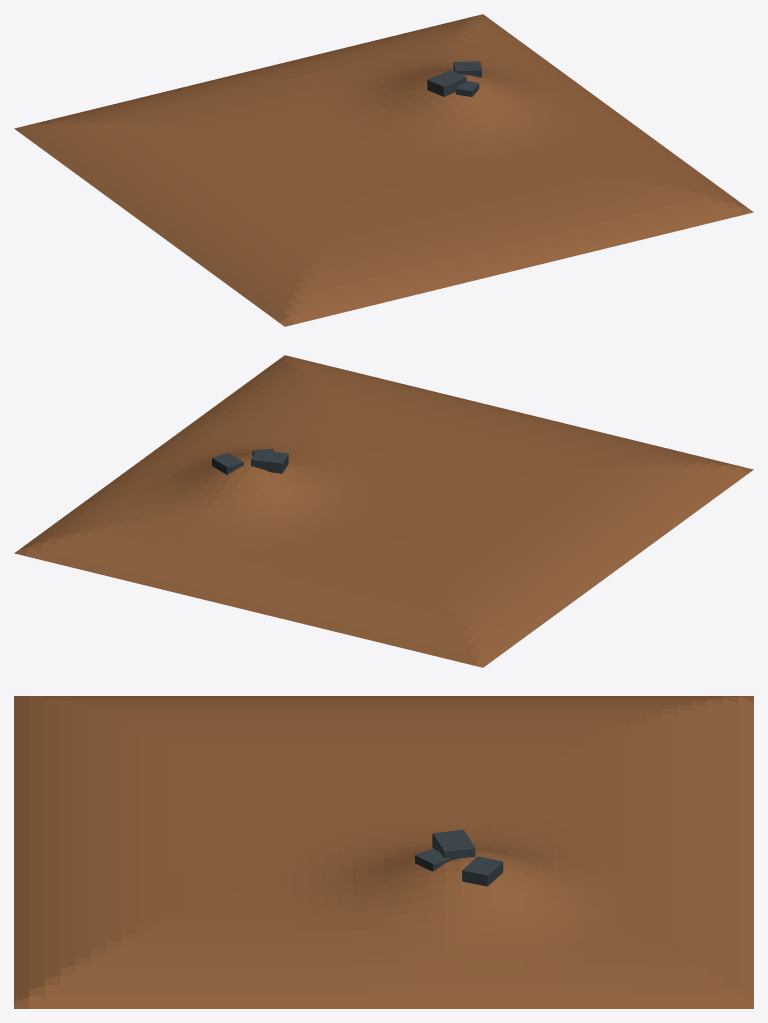
The model's file is terrain-flat.glb.
3 views of the same model, one above another, from view 1: azimuth 30°, elevation 25°; view 2: azimuth 150°, elevation 25°; view 3: azimuth 270°, elevation 25° (orthographic). The views are drawn at different scales.
Visible parts, largest first — view 1: TerrainSurface, OreRockA; view 2: TerrainSurface, OreRockA; view 3: TerrainSurface, OreRockA, OreRockB.
Boxes of the visible parts, <box> form: TerrainSurface: <box>14,14,753,326</box>; OreRockA: <box>427,70,466,96</box>; TerrainSurface: <box>14,355,753,667</box>; OreRockA: <box>251,450,288,473</box>; TerrainSurface: <box>14,696,753,1008</box>; OreRockA: <box>432,829,475,860</box>; OreRockB: <box>462,856,503,886</box>.
Size of the model in its own units: 9 by 0.9562 by 9.
